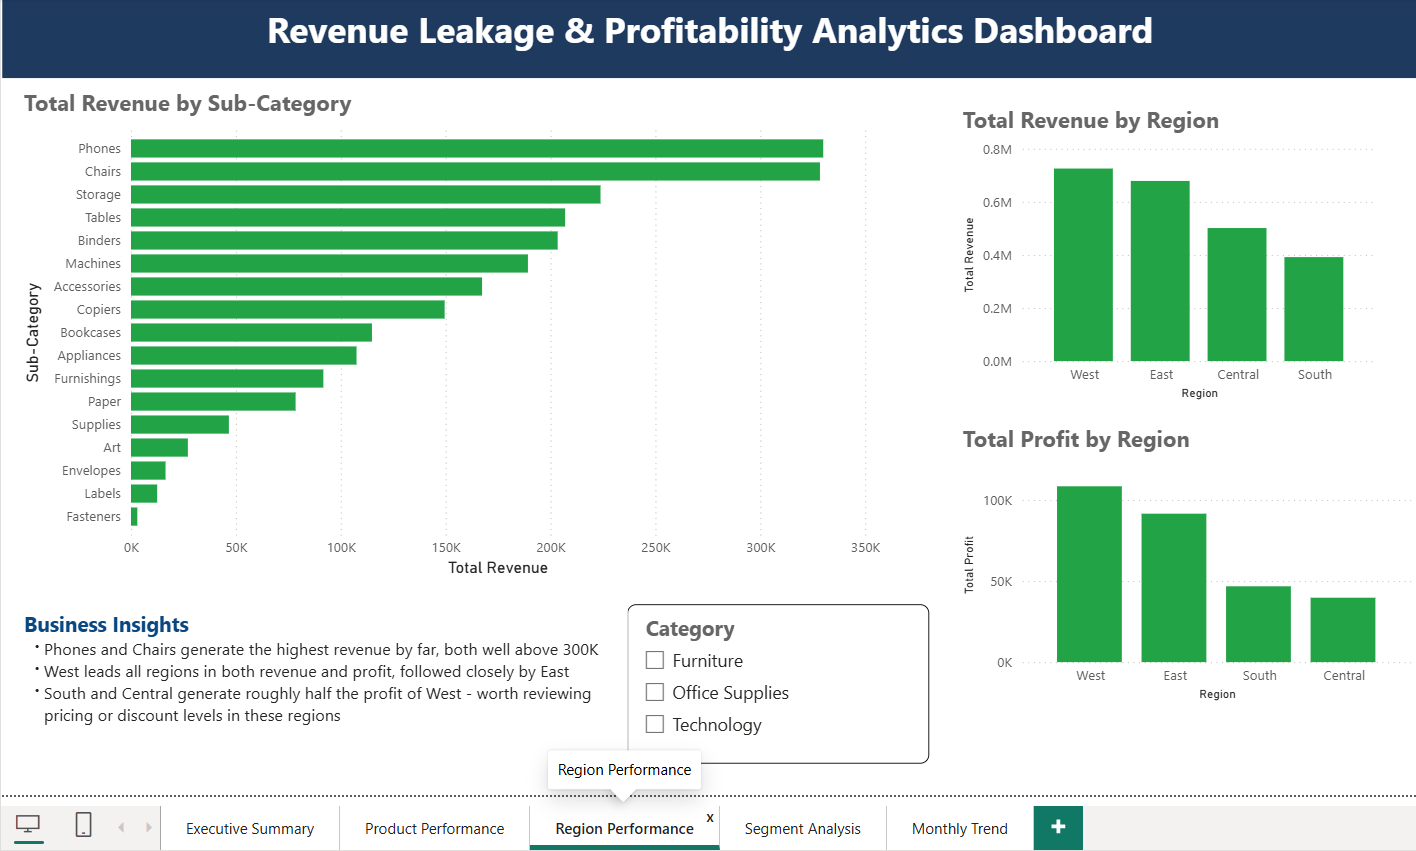

What the dashboard file says about the page in this screenshot:
{"tool":"powerbi","page":{"name":"Region Performance","canvas":[1280,720],"ordinal":2},"visuals":[{"type":"clusteredBarChart","fields":{"Y":["Sheet1.Total Revenue"],"Category":["Sheet1.Sub-Category"]},"box":[16,80,784,448],"z":0},{"type":"clusteredColumnChart","fields":{"Category":["Sheet1.Region"],"Y":["Sheet1.Total Revenue"]},"box":[864,96,384,272],"z":1000},{"type":"clusteredColumnChart","fields":{"Category":["Sheet1.Region"],"Y":["Sheet1.Total Profit"]},"box":[864,384,416,256],"z":2000},{"type":"slicer","fields":{"Values":["Sheet1.Category"]},"box":[566.2,547.8,272.7,144.3],"z":3000},{"type":"textbox","box":[1.1,1,1278.9,71.4],"z":4000},{"type":"textbox","box":[16,548,550,150],"z":5000}]}

Visuals, with their boxes on the page's 1280x720 design canvas (x1, y1, x2, y2). These are canvas units, not pixel positions in the 1416x851 screenshot, which may show the page scaled, cropped or inside an application window:
clusteredBarChart - Sheet1.Total Revenue x Sheet1.Sub-Category: x1=16, y1=80, x2=800, y2=528
clusteredColumnChart - Sheet1.Region x Sheet1.Total Revenue: x1=864, y1=96, x2=1248, y2=368
clusteredColumnChart - Sheet1.Region x Sheet1.Total Profit: x1=864, y1=384, x2=1280, y2=640
slicer - Sheet1.Category: x1=566, y1=548, x2=839, y2=692
textbox: x1=1, y1=1, x2=1280, y2=72
textbox: x1=16, y1=548, x2=566, y2=698
